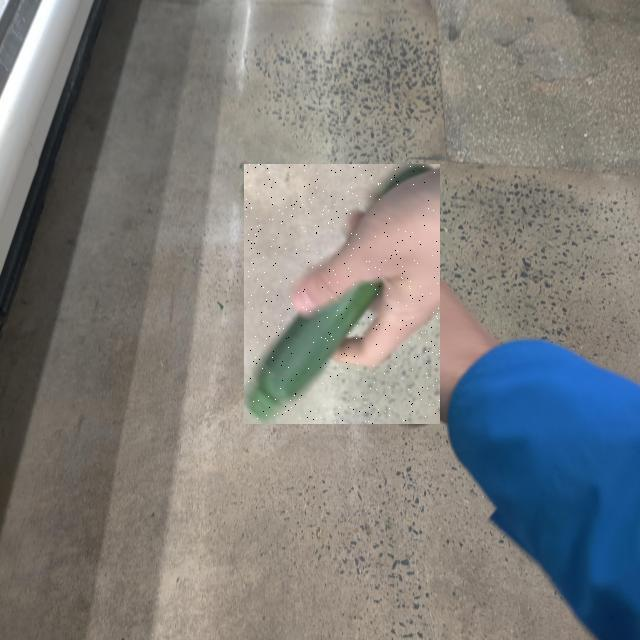Meat: (244, 164, 440, 424)
